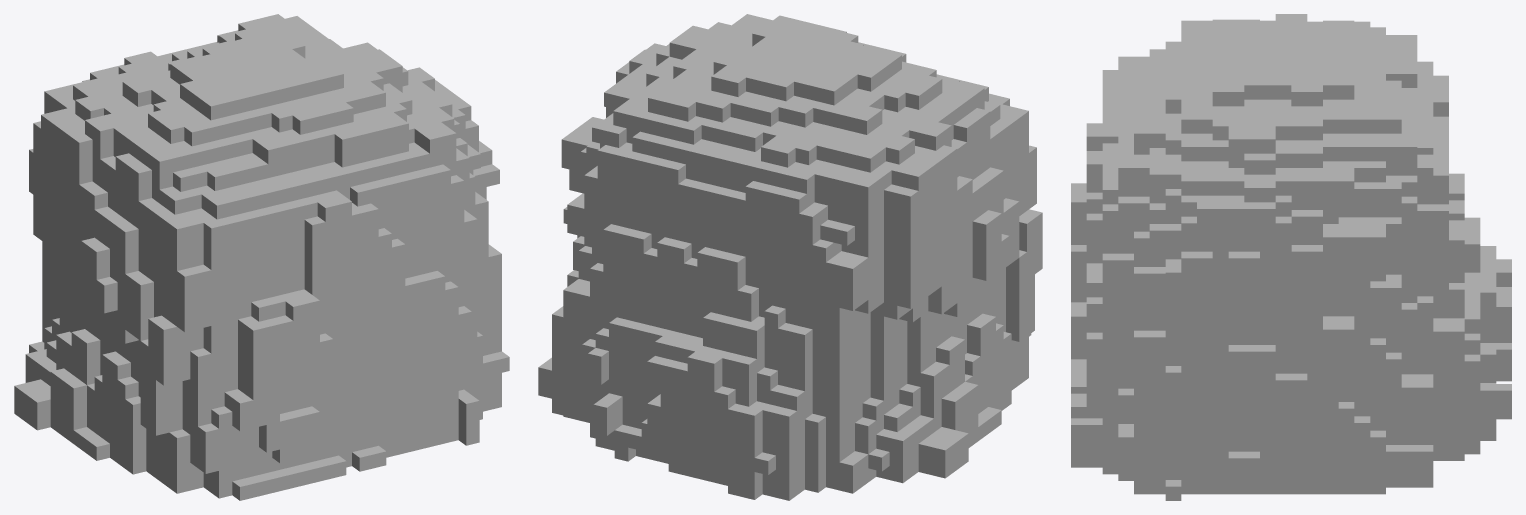
The model's file is BigRock1.obj.
3 renders of one model, left to right at view 1: azimuth 30°, elevation 25°; view 2: azimuth 150°, elevation 25°; view 3: azimuth 270°, elevation 25°, orthographic. The views are drawn at different scales.
Size of the model in its own units: 29 by 24 by 28.
1 material, 1 textured.
